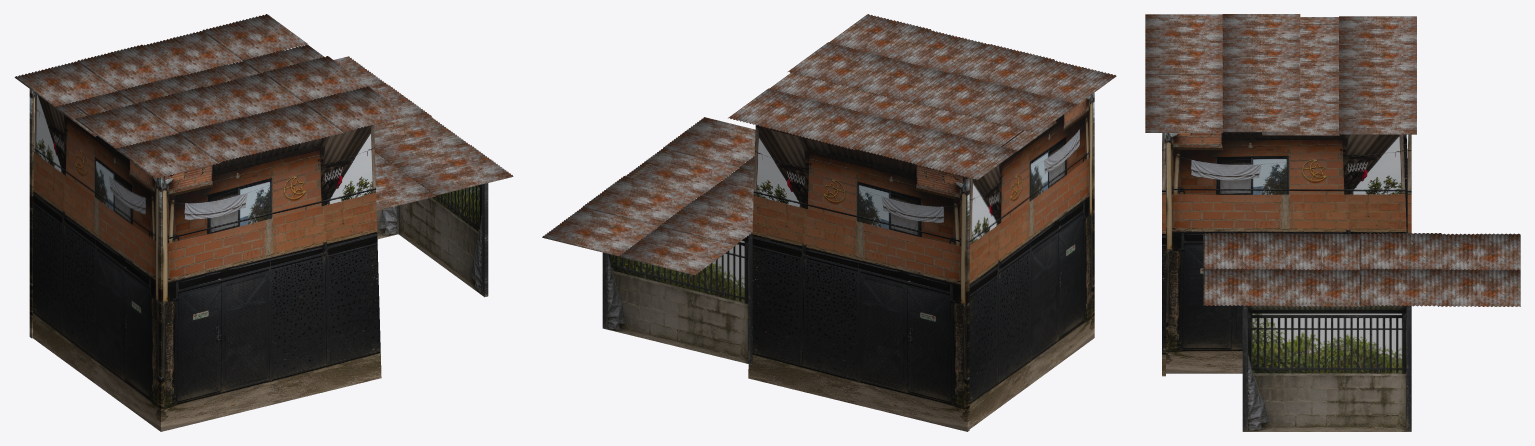
File: casa_2_derecha_10.fbx
3 renders of one model, left to right at view 1: azimuth 30°, elevation 25°; view 2: azimuth 150°, elevation 25°; view 3: azimuth 270°, elevation 25°, orthographic. The views are drawn at different scales.
Parts seen in each view (by area): view 1: casa_camino2_derecha_10.004, Techo_10.001, casa_camino2_derecha_10.003, Techo_10, casa_camino2_derecha_10A.002, casa_camino2_derecha_10.001, casa_camino2_derecha_10A.001; view 2: casa_camino2_derecha_10.001, Techo_10.001, casa_camino2_derecha_10.003, Techo_10, casa_camino2_derecha_10A.001; view 3: Techo_10.001, casa_camino2_derecha_10.002, Techo_10, casa_camino2_derecha_10A.002, casa_camino2_derecha_10.004, casa_camino2_derecha_10.001.
Part boxes in pixels (x1,y1,x2,y2): casa_camino2_derecha_10.004: (159, 125, 381, 431); Techo_10.001: (14, 14, 408, 178); casa_camino2_derecha_10.003: (33, 93, 159, 430); Techo_10: (334, 56, 513, 210); casa_camino2_derecha_10A.002: (398, 118, 488, 297); casa_camino2_derecha_10.001: (29, 61, 242, 338); casa_camino2_derecha_10A.001: (376, 152, 398, 239); casa_camino2_derecha_10.001: (748, 125, 969, 431); Techo_10.001: (728, 14, 1116, 180); casa_camino2_derecha_10.003: (969, 94, 1093, 428); Techo_10: (542, 117, 755, 275); casa_camino2_derecha_10A.001: (602, 214, 752, 364); Techo_10.001: (1145, 14, 1416, 135); casa_camino2_derecha_10.002: (1164, 132, 1406, 373); Techo_10: (1203, 233, 1520, 306); casa_camino2_derecha_10A.002: (1242, 302, 1411, 431); casa_camino2_derecha_10.004: (1162, 133, 1165, 376); casa_camino2_derecha_10.001: (1407, 134, 1411, 232).
Bounding box in the file's own units: 992 × 649 × 867.
